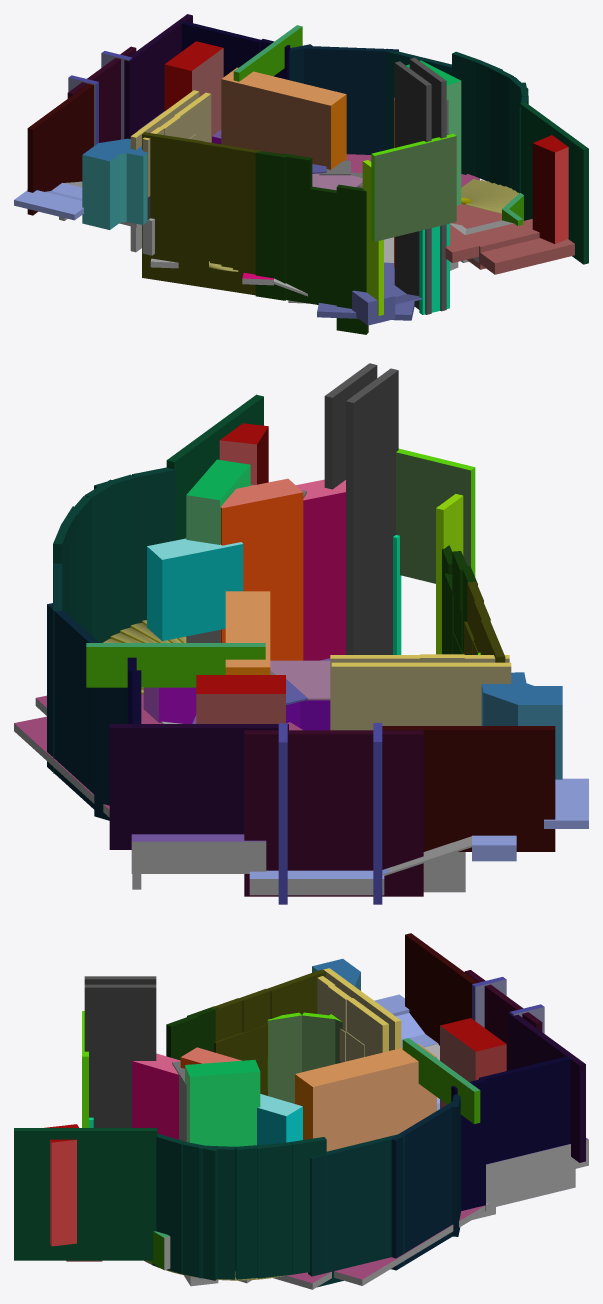
Rendered from warehouse textured.fbx.
The picture shows the model from 3 angles, top to bottom: view 1: azimuth 30°, elevation 25°; view 2: azimuth 150°, elevation 25°; view 3: azimuth 270°, elevation 25°; orthographic projection. The views are drawn at different scales.
Parts seen in each view (by area): view 1: straight_wall_component3, stairs_low; view 2: straight_wall_component3, stairs_low; view 3: straight_wall_component3.
Part boxes in pixels (x1,y1,x2,y2): straight_wall_component3: [14, 14, 588, 334]; stairs_low: [209, 179, 518, 271]; straight_wall_component3: [14, 363, 588, 904]; stairs_low: [103, 620, 186, 694]; straight_wall_component3: [14, 933, 588, 1289].
Bounding box in the file's own units: 7859 × 4296 × 8029.
